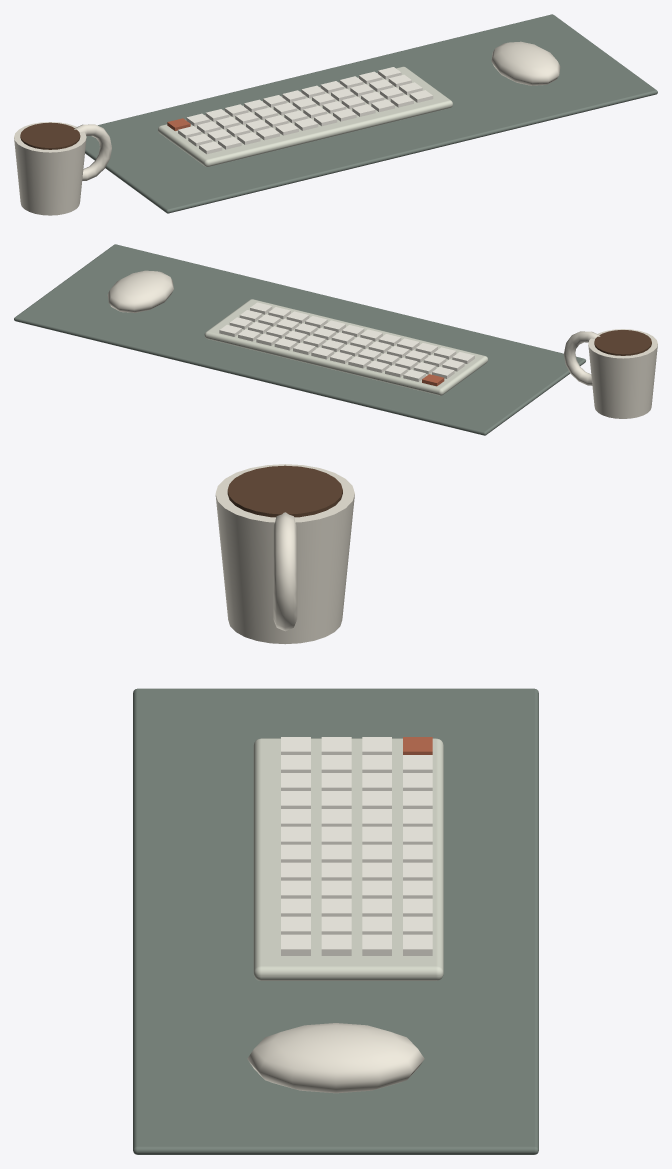
File: accessories.glb
3 views of the same model, one above another, from view 1: azimuth 30°, elevation 25°; view 2: azimuth 150°, elevation 25°; view 3: azimuth 270°, elevation 25° (orthographic). The views are drawn at different scales.
Bounding box in the file's own units: 2.1 × 0.245 × 0.64.
